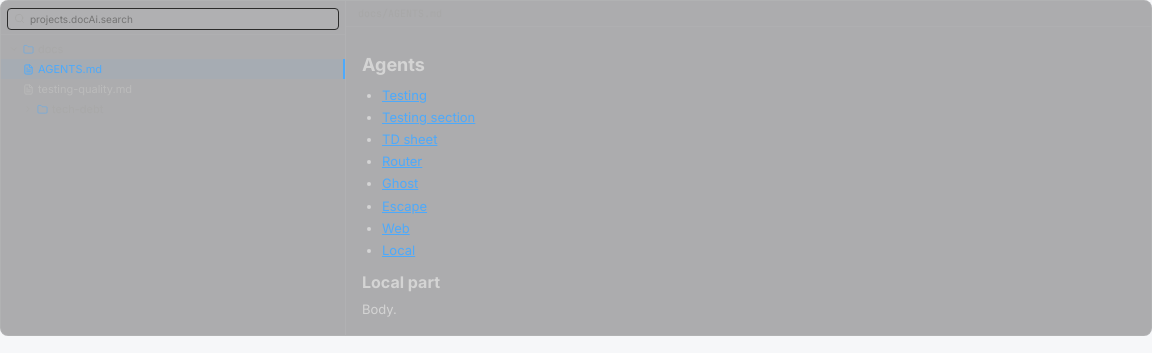
Scenario: AiDocViewer — in-app doc links › opens a relative docs link in the viewer without letting the browser navigate
Expected: the heading "Agents" is shown, top-left (362, 54), bottom-right (425, 75)
// fireEvent returns false when the handler called preventDefault.
Click the link "Testing" at (404, 95), box top-left (382, 87), bottom-right (427, 103)
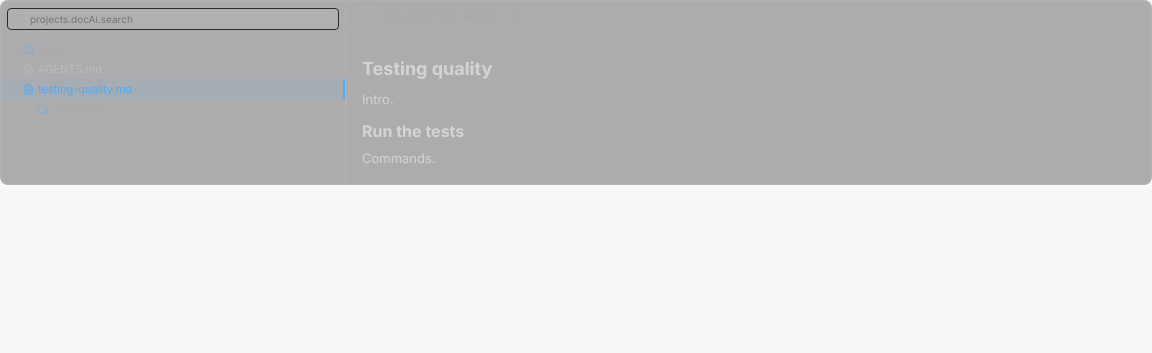
Expected: the heading "Testing quality" is shown, top-left (362, 58), bottom-right (492, 79)
